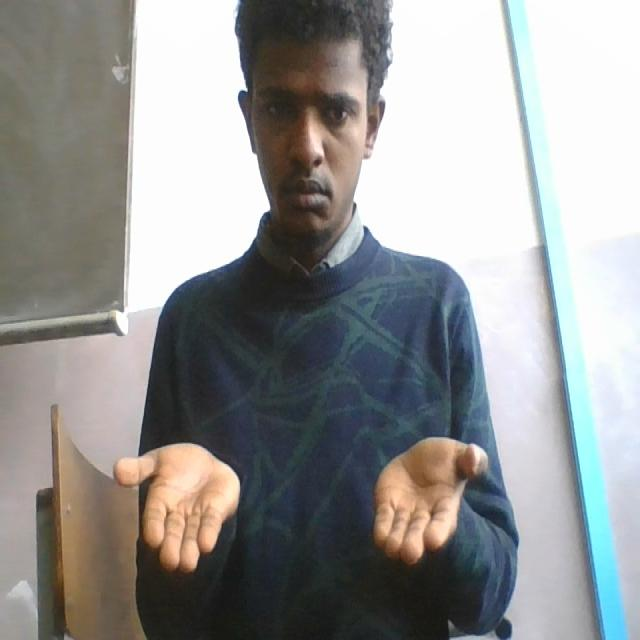mestet: (111, 430, 490, 570)
